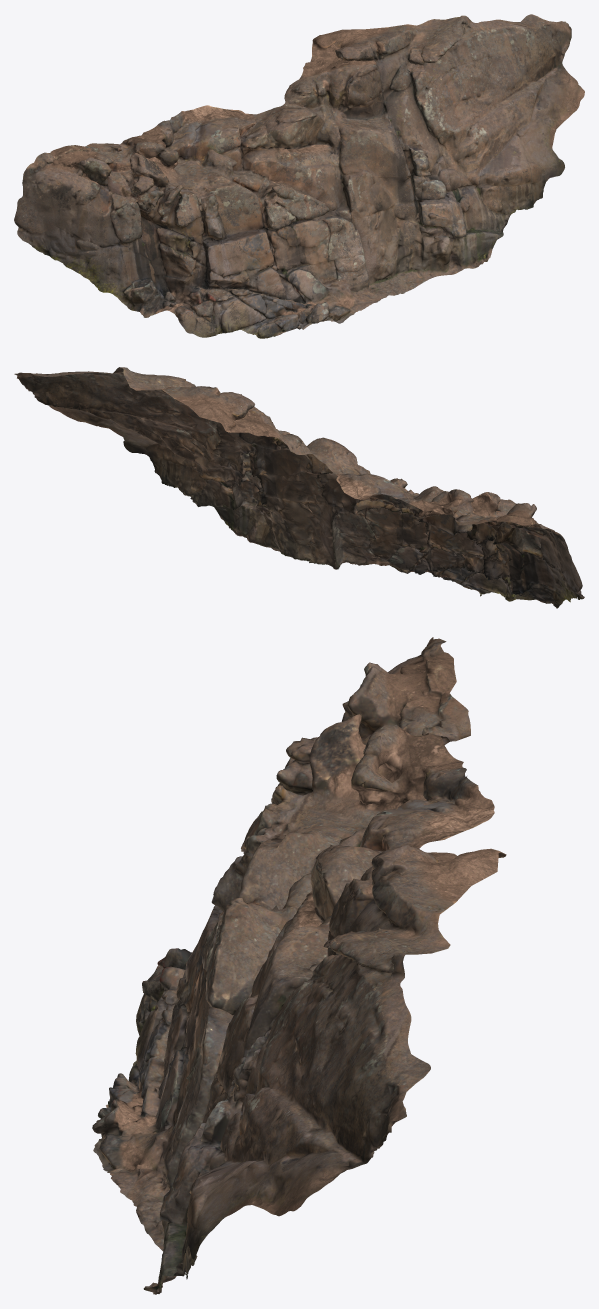
Rendered from granite.glb.
3 renders of one model, top to bottom at view 1: azimuth 30°, elevation 25°; view 2: azimuth 150°, elevation 25°; view 3: azimuth 270°, elevation 25°, orthographic. The views are drawn at different scales.
Visible parts, largest first — view 1: drone_rock_02_LOD0; view 2: drone_rock_02_LOD0; view 3: drone_rock_02_LOD0.
Part boxes in pixels (x1,y1,x2,y2): drone_rock_02_LOD0: (14,14,584,338); drone_rock_02_LOD0: (14,367,584,608); drone_rock_02_LOD0: (92,637,506,1294).
Bounding box in the file's own units: 20.23 × 7.18 × 6.59.
1 material, 1 textured.
